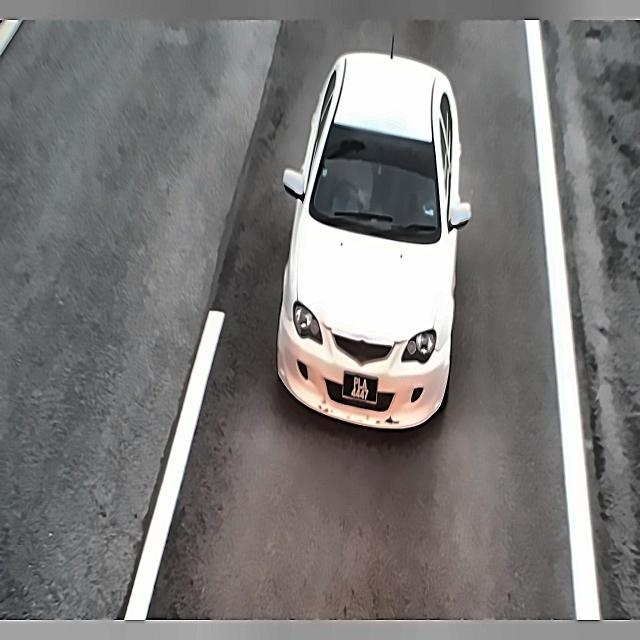car: (341, 369, 378, 412)
